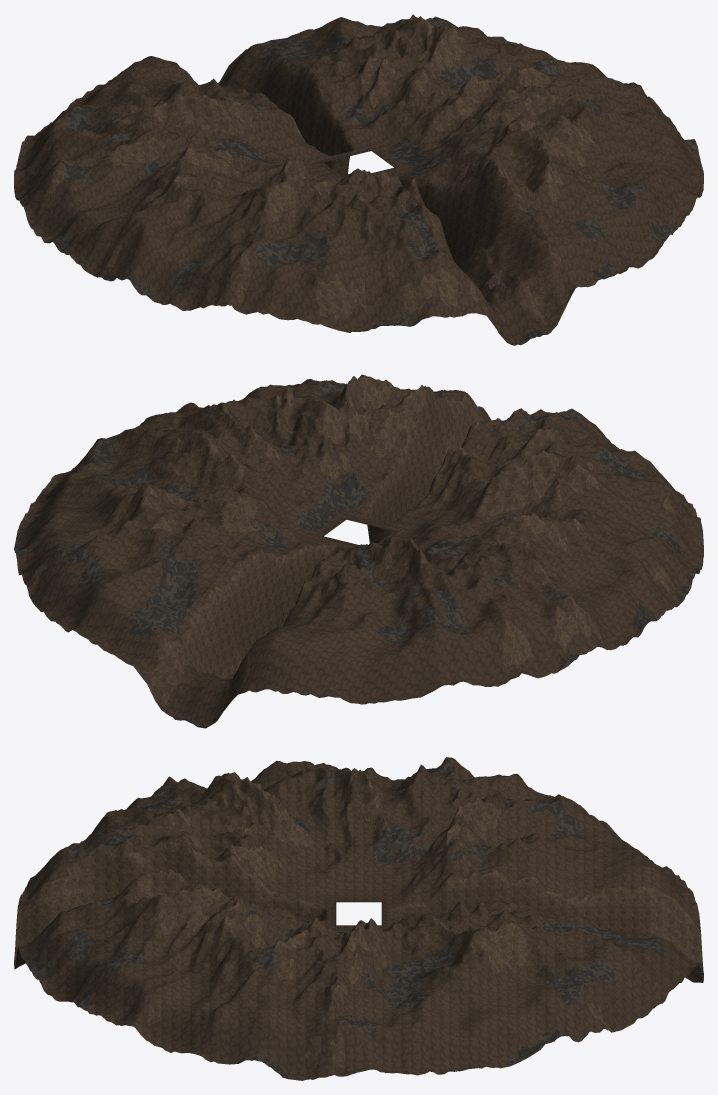
The model's file is backdrop_near_rect_bluffs_dead.glb.
The picture shows the model from 3 angles, top to bottom: view 1: azimuth 30°, elevation 25°; view 2: azimuth 150°, elevation 25°; view 3: azimuth 270°, elevation 25°; orthographic projection.
Parts seen in each view (by area): view 1: near_land_S, near_land_W, near_land_E, near_land_N; view 2: near_land_N, near_land_W, near_land_E, near_land_S; view 3: near_land_E, near_land_S, near_land_N, near_land_W.
Part boxes in pixels (x1,y1,x2,y2): near_land_S: [269, 118, 691, 345]; near_land_W: [14, 93, 340, 314]; near_land_E: [368, 16, 703, 211]; near_land_N: [26, 14, 440, 177]; near_land_N: [26, 500, 448, 728]; near_land_W: [392, 450, 703, 686]; near_land_E: [14, 384, 351, 584]; near_land_S: [278, 374, 687, 543]; near_land_E: [116, 899, 603, 1080]; near_land_S: [14, 797, 335, 1024]; near_land_N: [386, 800, 703, 1032]; near_land_W: [141, 757, 602, 902].
Bounding box in the file's own units: 576 × 168 × 576.
3 materials, 3 textured.
